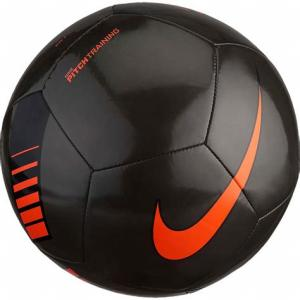Football: (0, 0, 298, 299)
